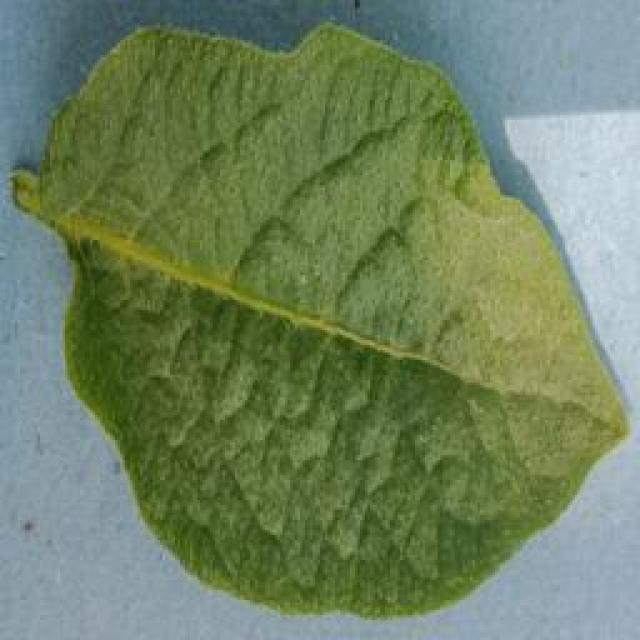Potato_Healthy: (14, 22, 623, 620)
